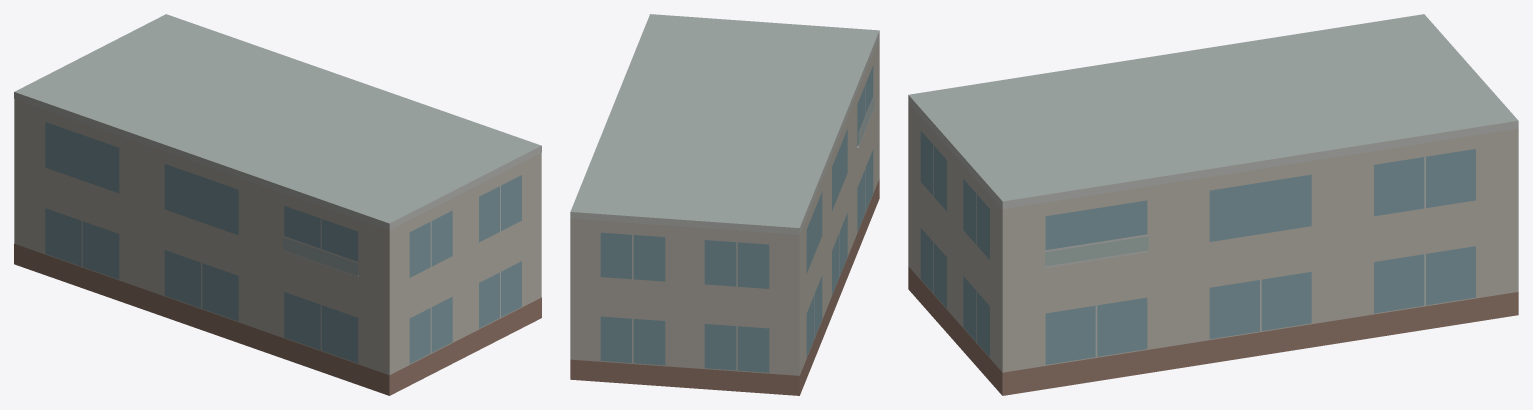
Rendered from survey-upis-32698444.glb.
The picture shows the model from 3 angles, left to right: view 1: azimuth 30°, elevation 25°; view 2: azimuth 150°, elevation 25°; view 3: azimuth 270°, elevation 25°; orthographic projection. The views are drawn at different scales.
Visible parts, largest first — view 1: survey-upis-32698444.tmp; view 2: survey-upis-32698444.tmp; view 3: survey-upis-32698444.tmp.
Boxes of the visible parts, bbox=[...] form: survey-upis-32698444.tmp: bbox=[14, 14, 541, 395]; survey-upis-32698444.tmp: bbox=[570, 14, 879, 395]; survey-upis-32698444.tmp: bbox=[908, 14, 1518, 395].
Size of the model in its own units: 12.63 by 6.1 by 17.37.
